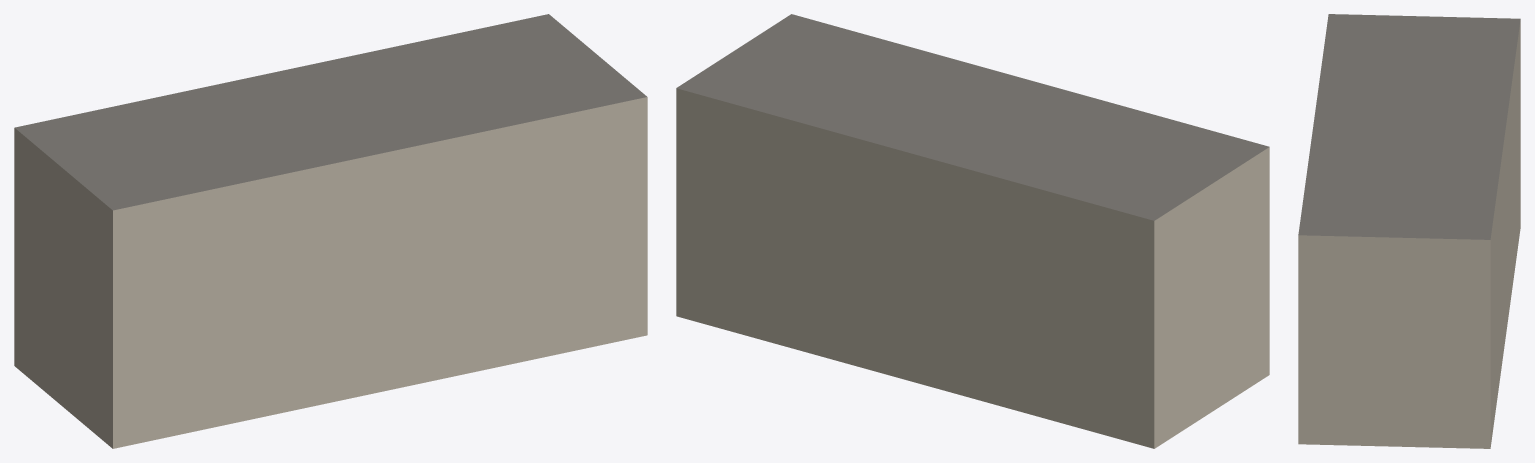
3 views of the same model, side by side, from view 1: azimuth 30°, elevation 25°; view 2: azimuth 150°, elevation 25°; view 3: azimuth 270°, elevation 25° (orthographic). The views are drawn at different scales.
Parts seen in each view (by area): view 1: HP-w987283659; view 2: HP-w987283659; view 3: HP-w987283659.
Part boxes in pixels (box(x1,y1,x2,y2)): HP-w987283659: box(14, 14, 647, 448); HP-w987283659: box(676, 14, 1269, 448); HP-w987283659: box(1298, 14, 1520, 448).
Size of the model in its own units: 41.73 by 18 by 17.35.
